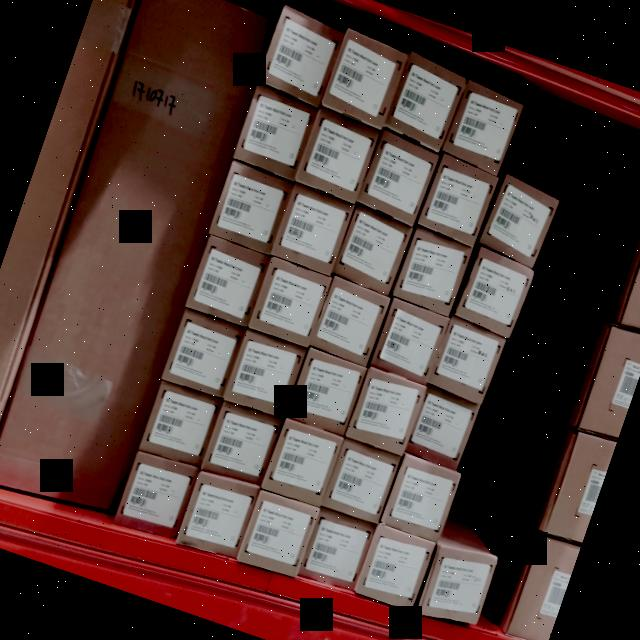box: (0, 0, 277, 516), (322, 30, 408, 124), (206, 159, 292, 253), (234, 88, 316, 178), (260, 10, 341, 100), (387, 56, 466, 148), (272, 186, 354, 274), (186, 238, 267, 326), (222, 330, 304, 416), (359, 134, 439, 222), (140, 380, 220, 468), (162, 309, 242, 396), (286, 349, 366, 435), (178, 471, 257, 558), (445, 82, 523, 170), (356, 524, 436, 608), (115, 451, 194, 536), (418, 158, 496, 244), (347, 370, 425, 456), (248, 262, 328, 344), (393, 232, 472, 315), (334, 210, 412, 294), (200, 402, 279, 484), (238, 494, 316, 576), (482, 178, 559, 261), (382, 458, 459, 540), (298, 116, 376, 194), (264, 424, 340, 504), (419, 547, 496, 625), (432, 320, 506, 401), (459, 251, 534, 328), (372, 304, 447, 381), (312, 282, 386, 360), (300, 510, 372, 590), (322, 444, 396, 520), (408, 388, 478, 468)
